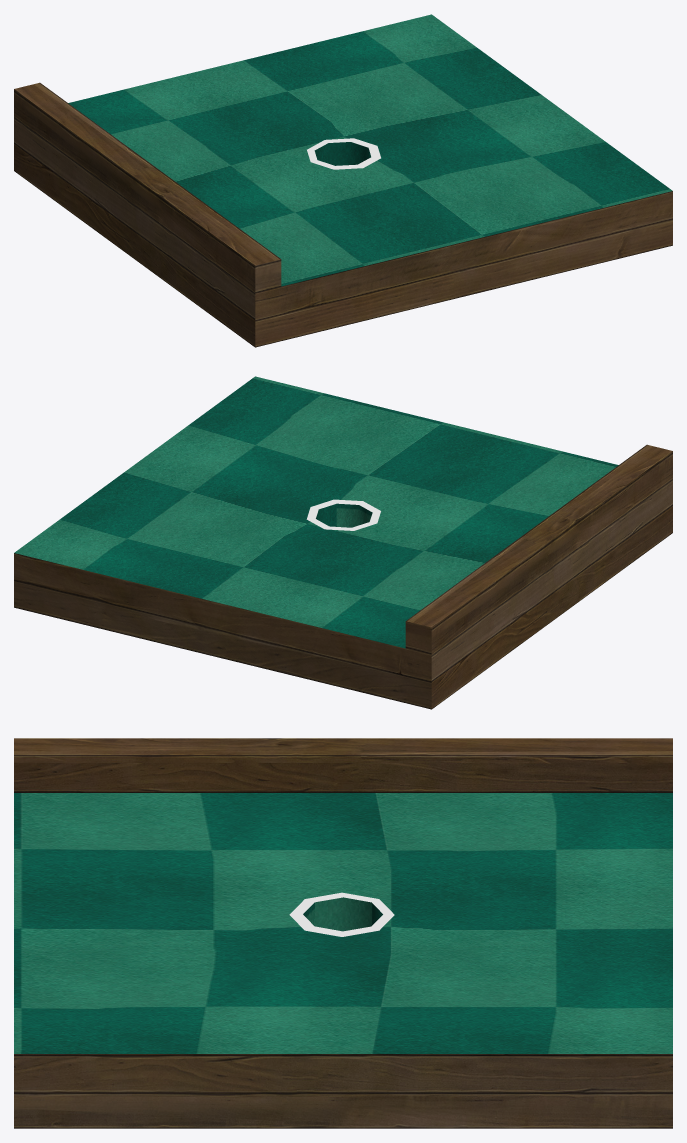
Rendered from End5.gltf.
3 renders of one model, top to bottom at view 1: azimuth 30°, elevation 25°; view 2: azimuth 150°, elevation 25°; view 3: azimuth 270°, elevation 25°, orthographic. The views are drawn at different scales.
Parts seen in each view (by area): view 1: End5_hole_grass_glb, End5_wood_0001_glb; view 2: End5_hole_grass_glb, End5_wood_0001_glb; view 3: End5_hole_grass_glb, End5_wood_0001_glb.
Part boxes in pixels (left/top/right/bottom): End5_hole_grass_glb: left=68, top=14, right=672, bottom=286; End5_wood_0001_glb: left=14, top=82, right=672, bottom=347; End5_hole_grass_glb: left=14, top=376, right=618, bottom=648; End5_wood_0001_glb: left=14, top=444, right=672, bottom=709; End5_hole_grass_glb: left=14, top=793, right=672, bottom=1053; End5_wood_0001_glb: left=14, top=738, right=672, bottom=1128.
Size of what is drawn, in the model's own units: 4 by 0.75 by 4.
3 materials, 2 textured.
